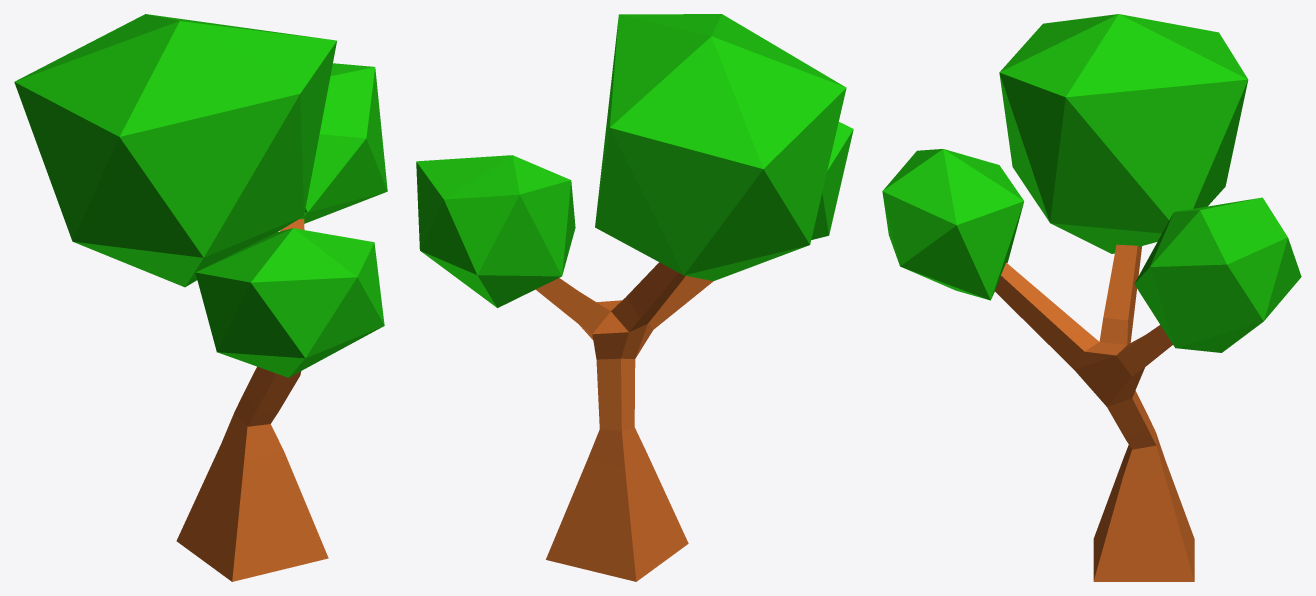
File: dtree5C(F197).obj
The picture shows the model from 3 angles, left to right: view 1: azimuth 30°, elevation 25°; view 2: azimuth 150°, elevation 25°; view 3: azimuth 270°, elevation 25°; orthographic projection. The views are drawn at different scales.
Parts seen in each view (by area): view 1: Icosphere.063, Icosphere.064, Cube.015, Icosphere.062; view 2: Icosphere.063, Cube.015, Icosphere.062, Icosphere.064; view 3: Icosphere.063, Cube.015, Icosphere.062, Icosphere.064.
Part boxes in pixels (x1,y1,x2,y2): Icosphere.063: (14,14,336,287); Icosphere.064: (195,228,384,377); Cube.015: (176,219,328,581); Icosphere.062: (300,63,387,223); Icosphere.063: (595,14,846,280); Cube.015: (535,262,713,581); Icosphere.062: (416,155,575,307); Icosphere.064: (811,122,853,239); Icosphere.063: (999,14,1248,253); Cube.015: (995,244,1194,581); Icosphere.062: (1134,197,1301,352); Icosphere.064: (882,149,1024,300).
Size of the model in its own units: 1.5 by 2.2 by 1.65.
